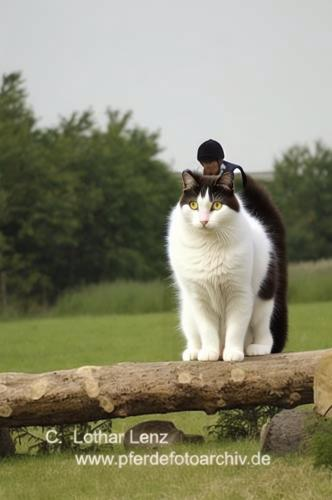cat: (163, 172, 288, 360)
person: (197, 140, 278, 310)
person/foot: (260, 291, 278, 308)
person/hand: (215, 202, 230, 214)
person/head: (197, 141, 226, 176)
